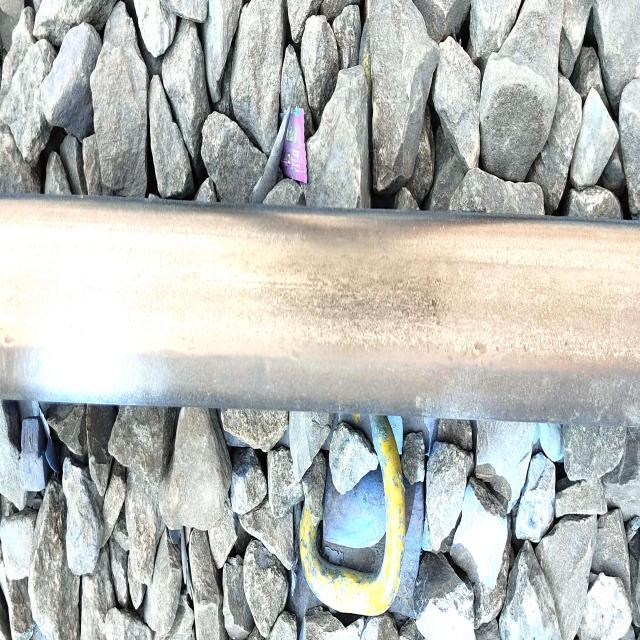Good Fasteners: (300, 416, 423, 617)
